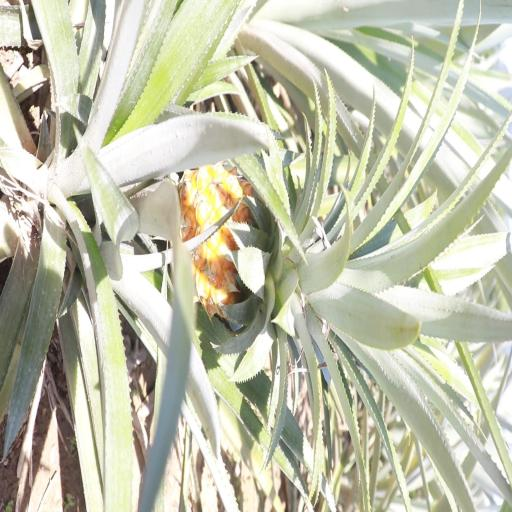Pineapple - v8 v1: (176, 158, 427, 363)
